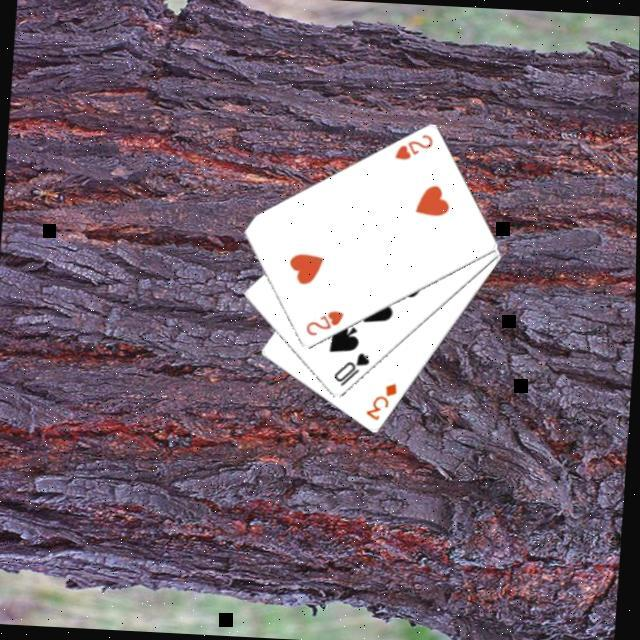10S: (332, 348, 374, 390)
2H: (303, 305, 349, 340), (392, 130, 438, 164)
3D: (364, 378, 404, 424)
